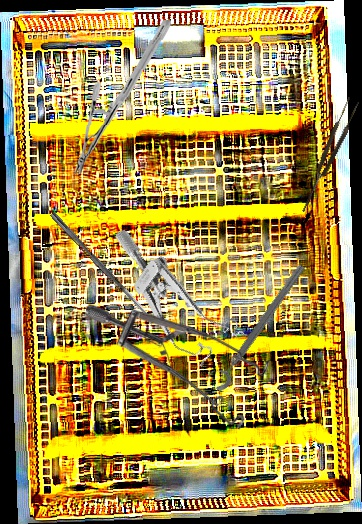Fixation Ring: (203, 256, 309, 394)
Needle Holder: (73, 16, 172, 178)
Speculum: (82, 227, 254, 377), (86, 303, 270, 430)
Surgical Spoon: (49, 211, 156, 326)
Tissue Forceps: (295, 96, 362, 215)
